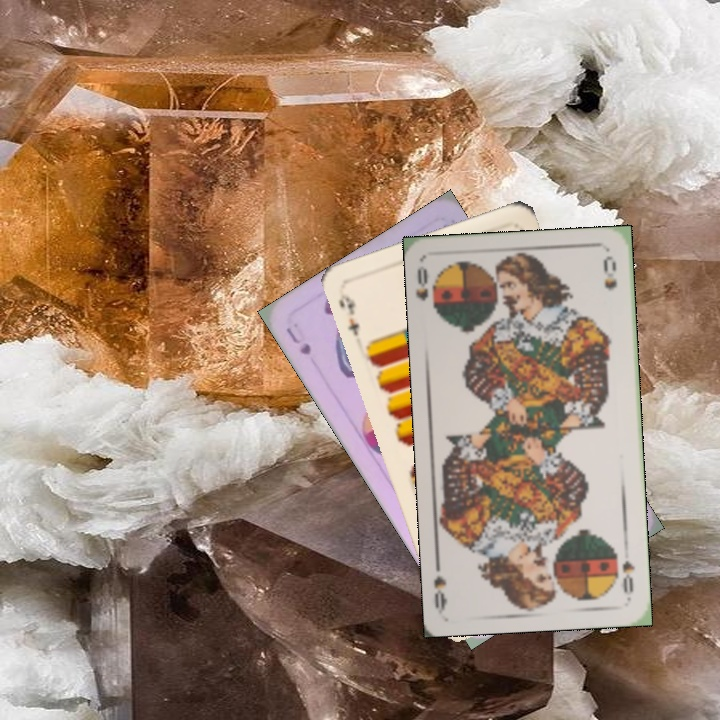E9: (334, 289, 362, 339)
SO: (413, 261, 441, 317), (618, 556, 638, 595)
SU: (282, 323, 314, 358)
